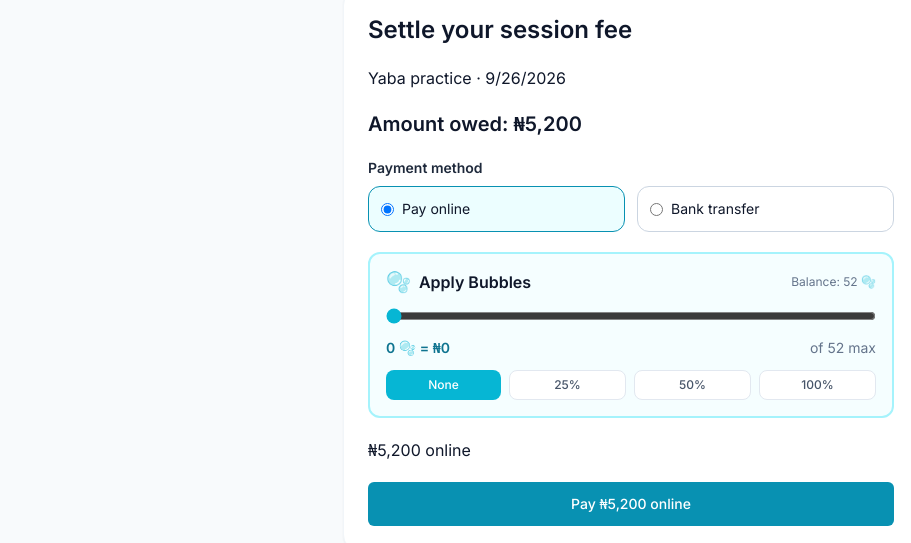
Test: outstanding session settlement › settles fully with available Bubbles and stable retry identity
What coordinates should you click on to do the following:
click the button "100%"
I would click on:
 (818, 385)
Its box is [759,370,876,400].
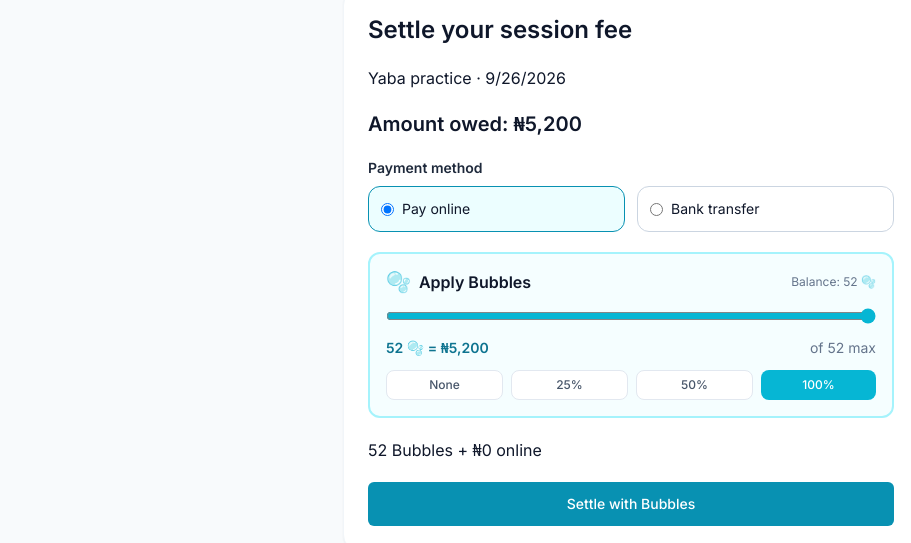
What coordinates should you click on to do the following:
click the button "Settle with Bubbles"
I would click on:
 (631, 504)
Its box is [368,482,894,526].
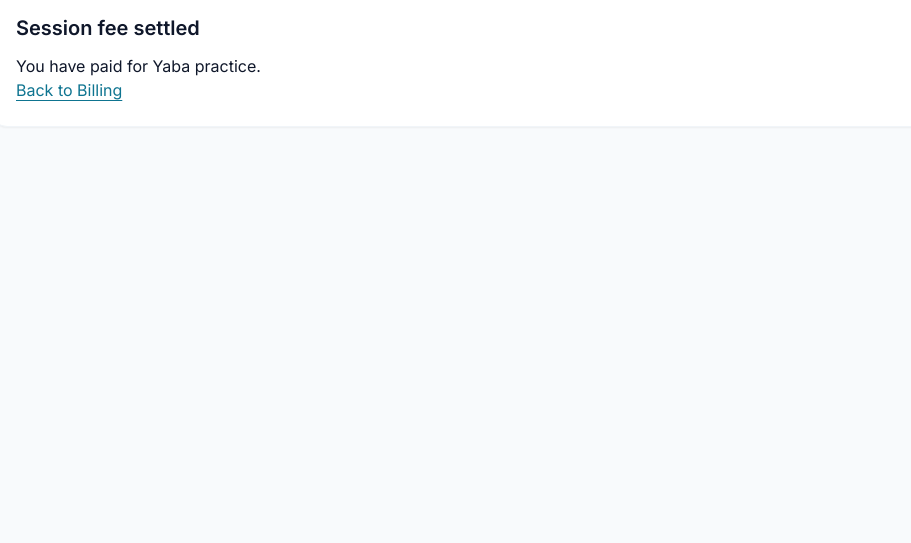
Result: the heading "Session fee settled" is shown at [16,16,200,40]
